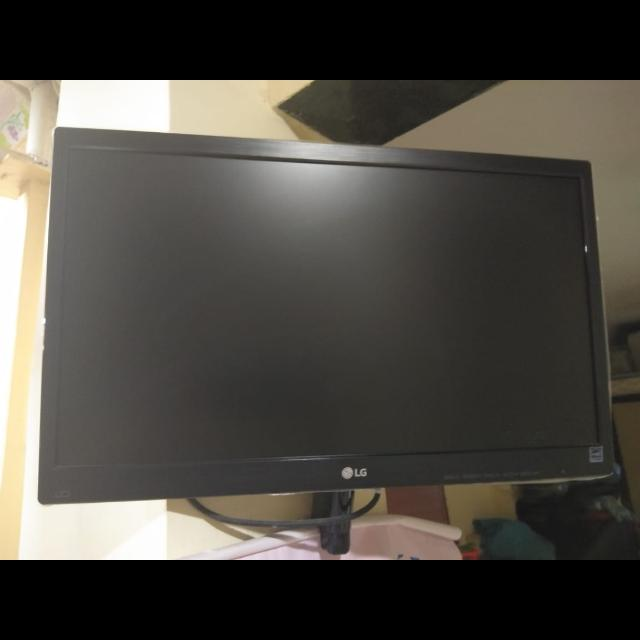Flat-Panel-Monitor: (36, 120, 620, 524)
